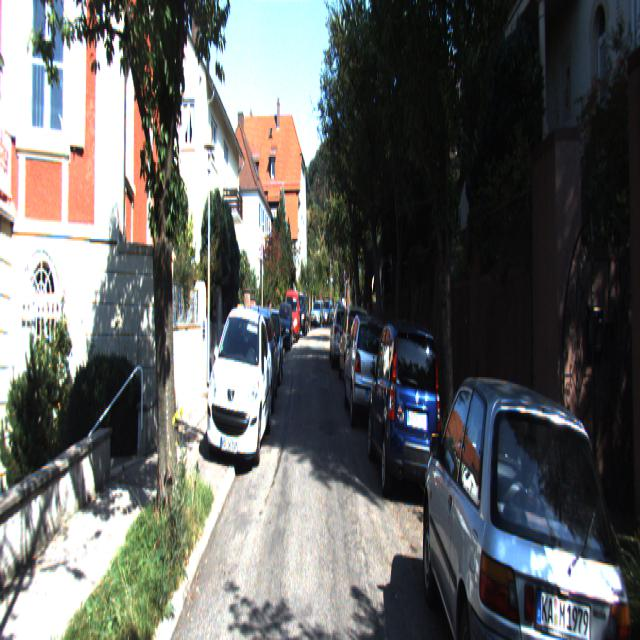Car: (422, 355, 640, 638), (367, 310, 445, 513), (205, 304, 273, 480), (343, 306, 392, 433), (240, 324, 280, 439), (337, 303, 371, 390), (253, 313, 286, 395), (329, 301, 355, 371), (275, 301, 294, 354), (284, 290, 301, 347), (291, 294, 307, 340)
